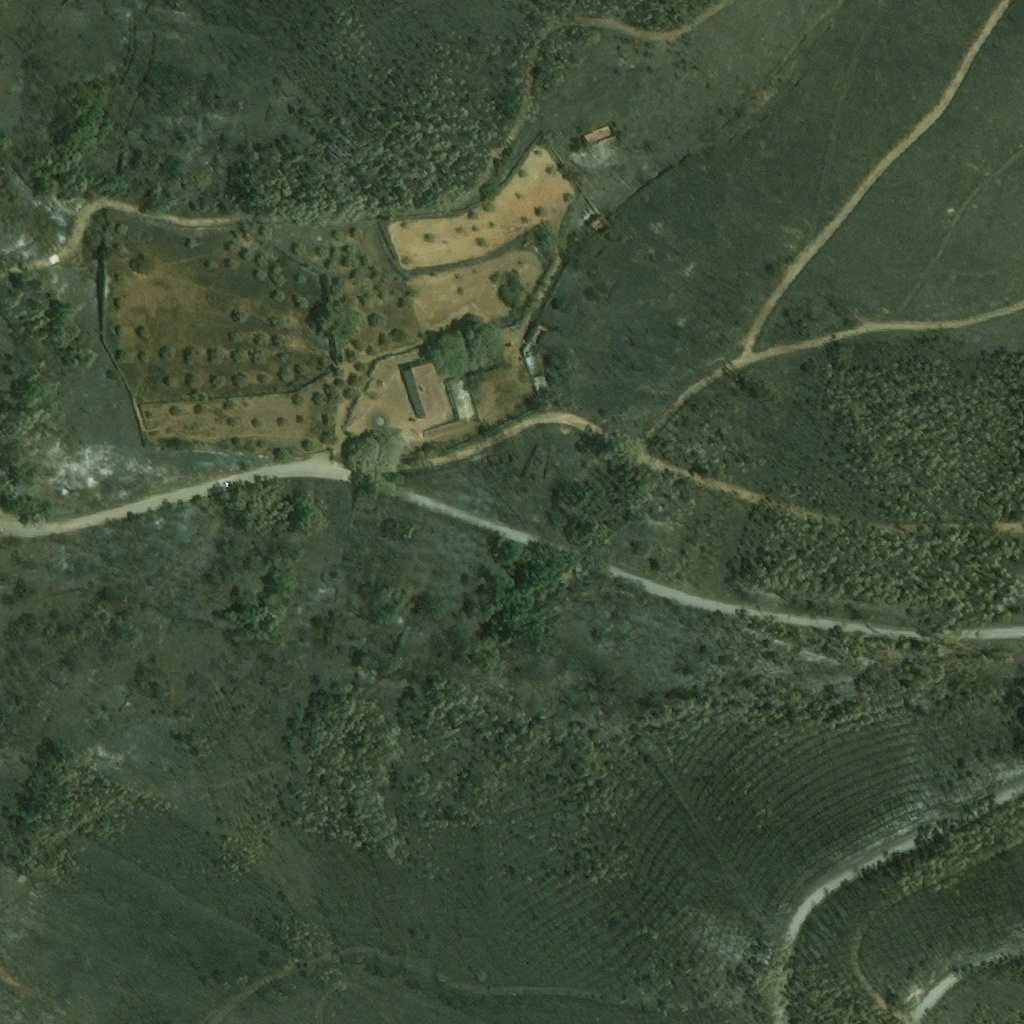0 no-damage: (400, 361, 451, 422), (444, 376, 479, 423)
3 destroyed: (520, 350, 554, 394), (525, 316, 555, 350), (581, 207, 611, 239), (584, 124, 616, 147)
